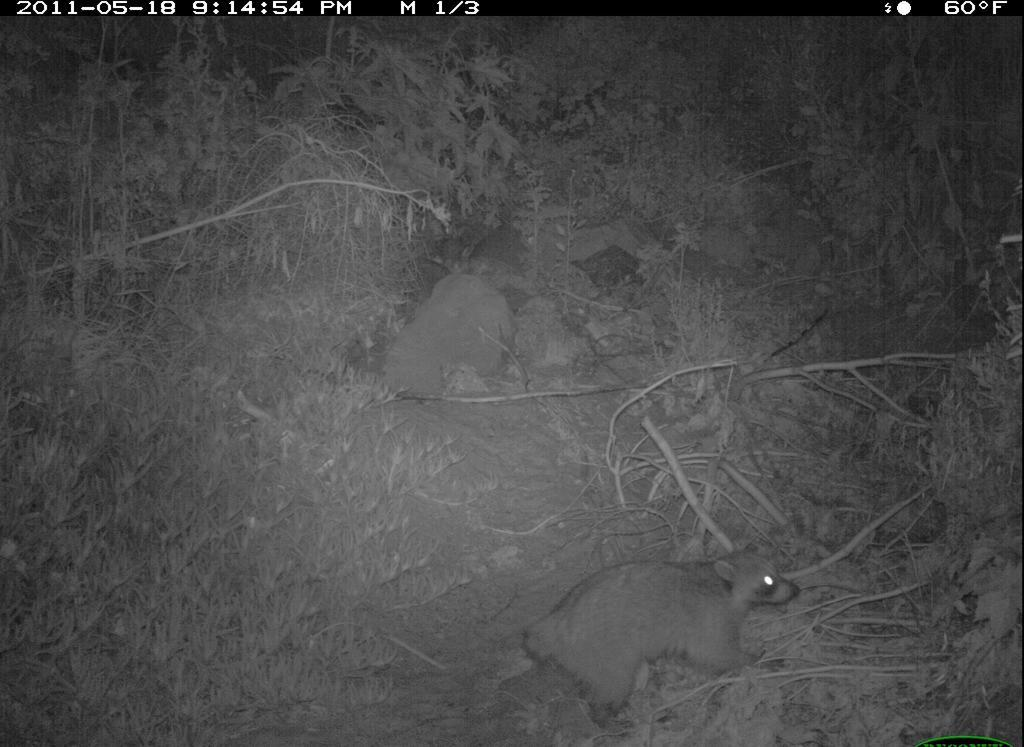raccoon: (516, 546, 809, 738)
